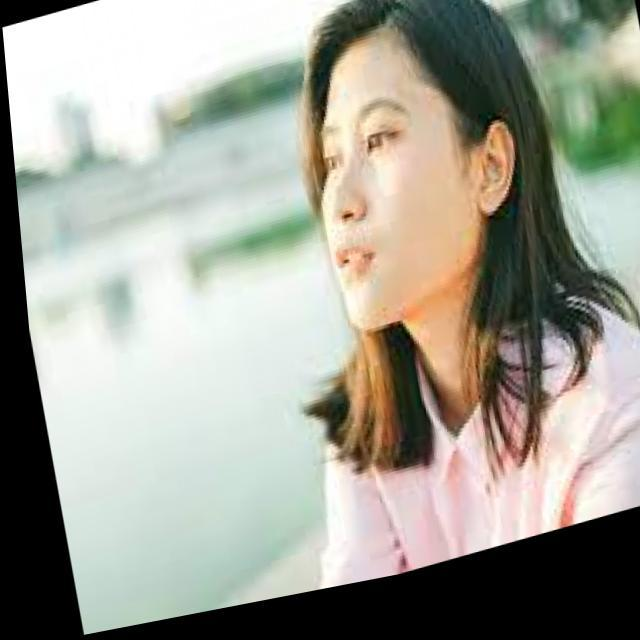Nonhelmet: (289, 0, 553, 345)
